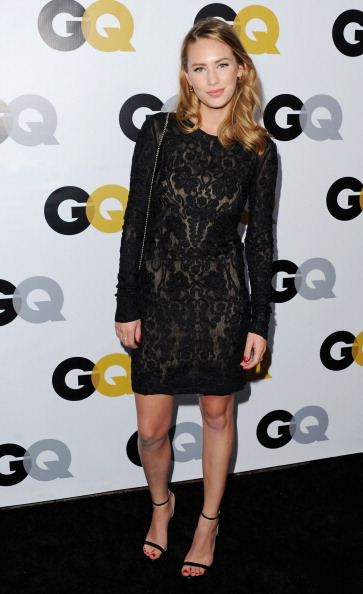em pe: (106, 23, 280, 574)
